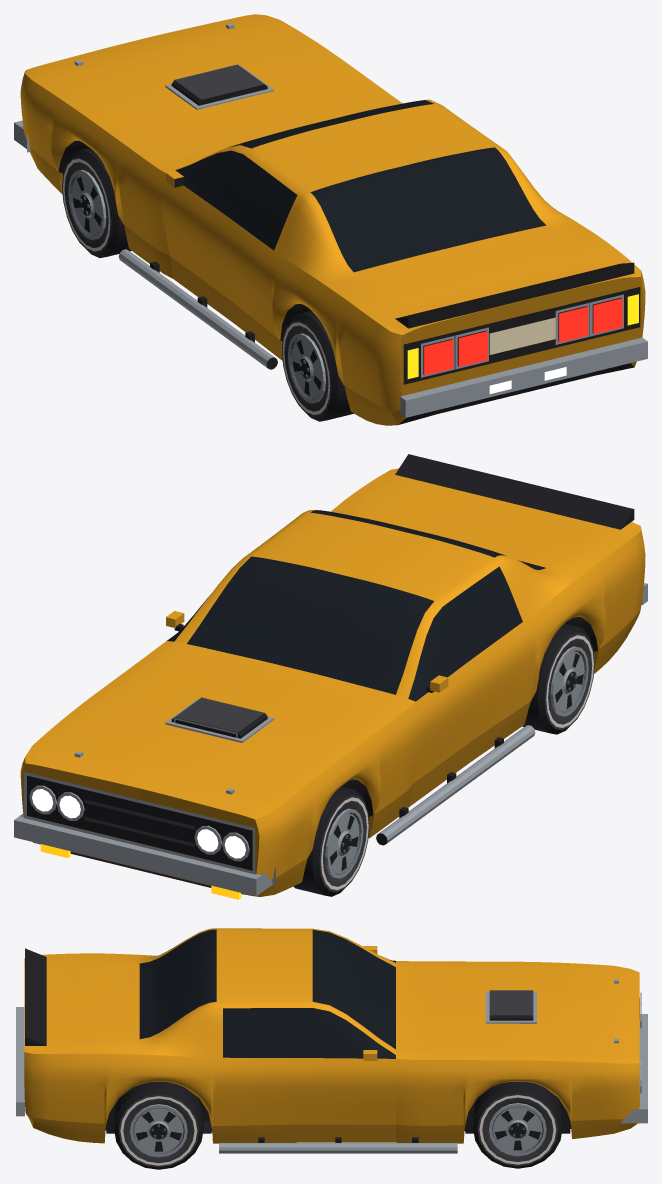
File: brute_v8.glb
3 views of the same model, one above another, from view 1: azimuth 30°, elevation 25°; view 2: azimuth 150°, elevation 25°; view 3: azimuth 270°, elevation 25° (orthographic). The views are drawn at different scales.
Visible parts, largest first — view 1: Body, Tire_RL, Tire_FL, Rim_FL, Rim_RL, brake_R, brake_L; view 2: Body, Tire_RL, Tire_FL, Rim_RL, Rim_FL, headlight_L, headlight_R; view 3: Body, Tire_RR, Tire_FR, Rim_FR, Rim_RR.
Boxes of the visible parts, <box> form: Body: <box>14,14,647,425</box>; Tire_RL: <box>281,310,353,421</box>; Tire_FL: <box>62,147,131,257</box>; Rim_FL: <box>68,170,106,239</box>; Rim_RL: <box>288,333,325,403</box>; brake_R: <box>559,298,622,342</box>; brake_L: <box>424,331,487,375</box>; Body: <box>14,454,647,896</box>; Tire_RL: <box>522,623,594,734</box>; Tire_FL: <box>293,786,369,896</box>; Rim_RL: <box>550,646,588,716</box>; Rim_FL: <box>325,808,363,878</box>; headlight_L: <box>197,829,245,858</box>; headlight_R: <box>32,789,80,818</box>; Body: <box>16,928,647,1153</box>; Tire_RR: <box>114,1081,203,1169</box>; Tire_FR: <box>473,1082,562,1168</box>; Rim_FR: <box>489,1103,546,1156</box>; Rim_RR: <box>130,1104,187,1157</box>.
Size of the model in its own units: 1.99 by 1.35 by 4.94.
